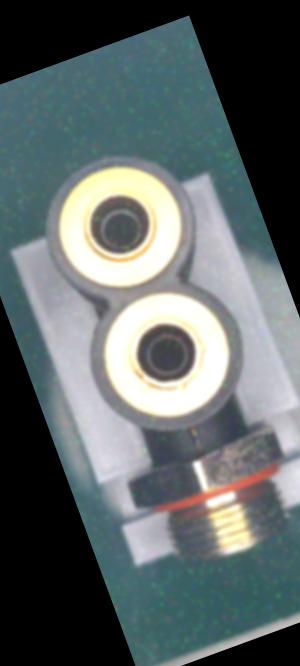craze: (181, 424, 209, 463)
